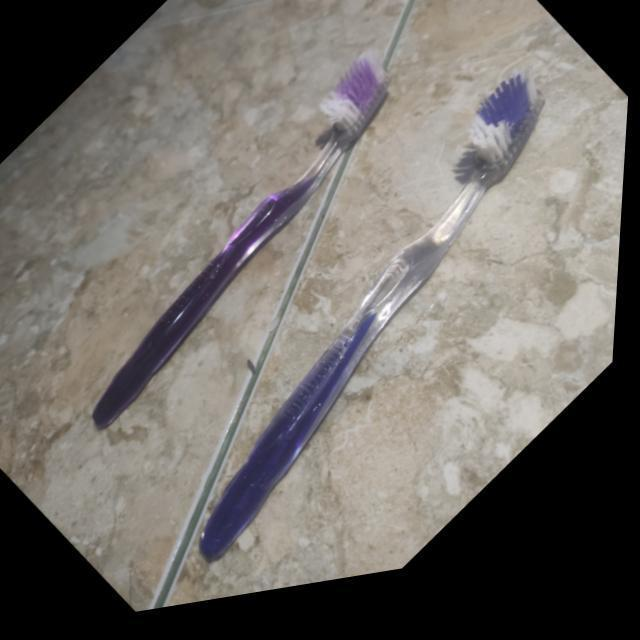toothbrush: (206, 86, 548, 582), (91, 68, 399, 450)
